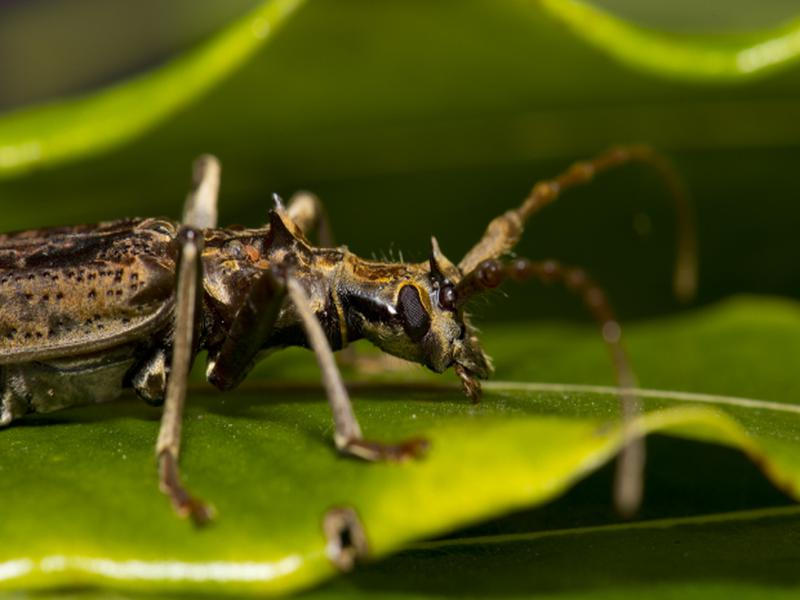Spiny_beetle: (10, 201, 494, 447)
